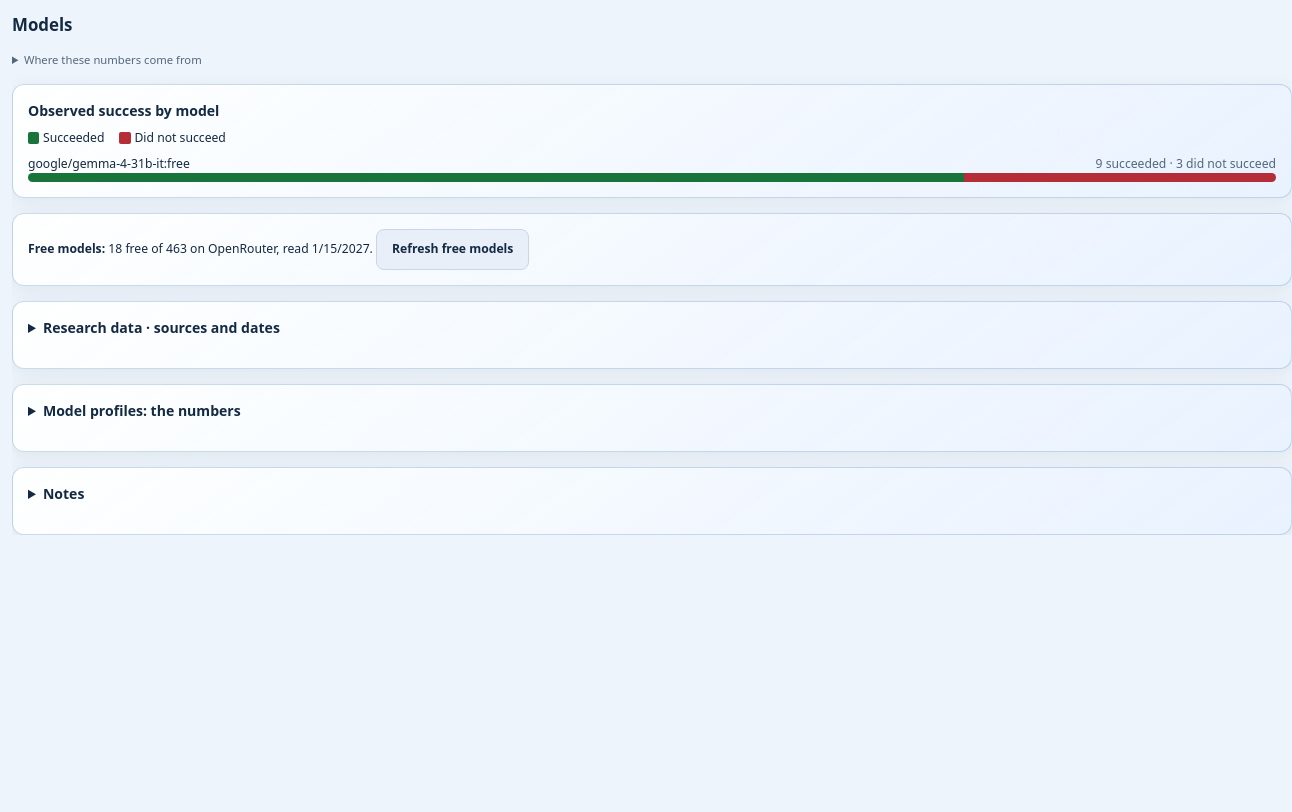
it: refreshes only on a click, then shows what is new and what changed, and says nothing was changed
The width and height of the screenshot is (1292, 812).
What coordinates should you click on to do the following:
click the button "Refresh free models"
I would click on:
 (453, 249)
Its box is [376,229,529,270].
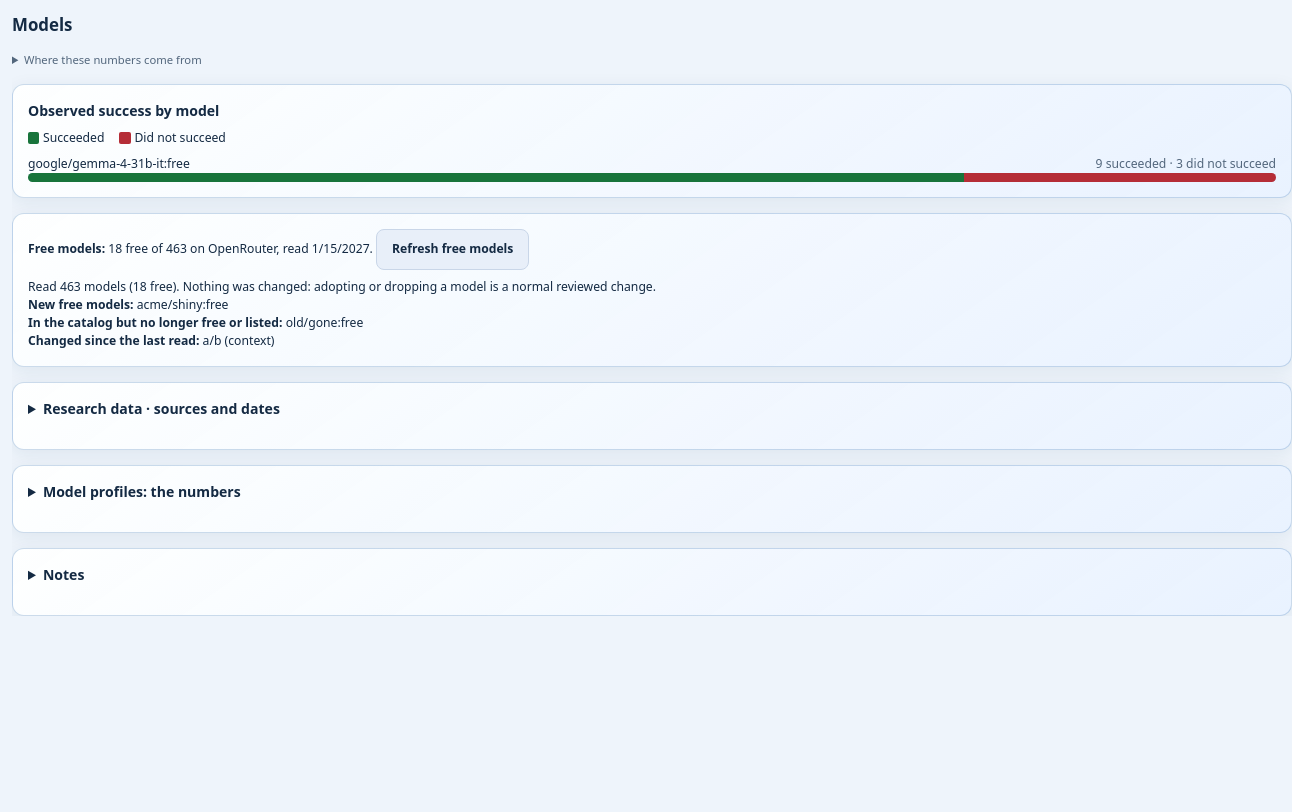
Now the element with test id "refresh-result" shows "Nothing was changed", box [28,278,656,295]
Now the element with test id "refresh-result" shows "acme/shiny:free", box [134,296,228,313]
Now the element with test id "refresh-result" shows "old/gone:free", box [282,314,363,331]
